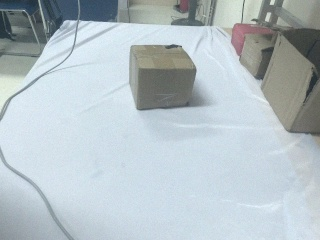box: (260, 27, 320, 135), (128, 44, 197, 110), (237, 28, 278, 79)
